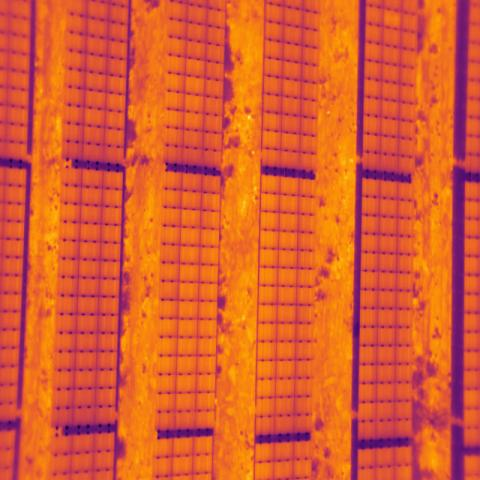fault: (382, 7, 402, 30)
